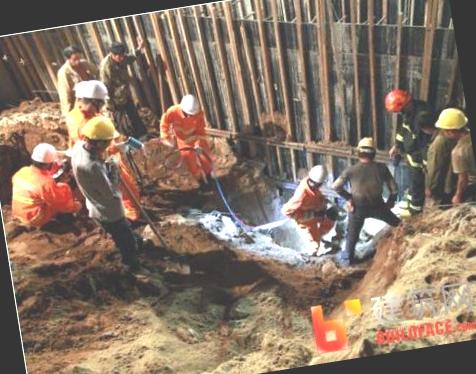no_helmet: (60, 40, 88, 70), (106, 37, 130, 64)
